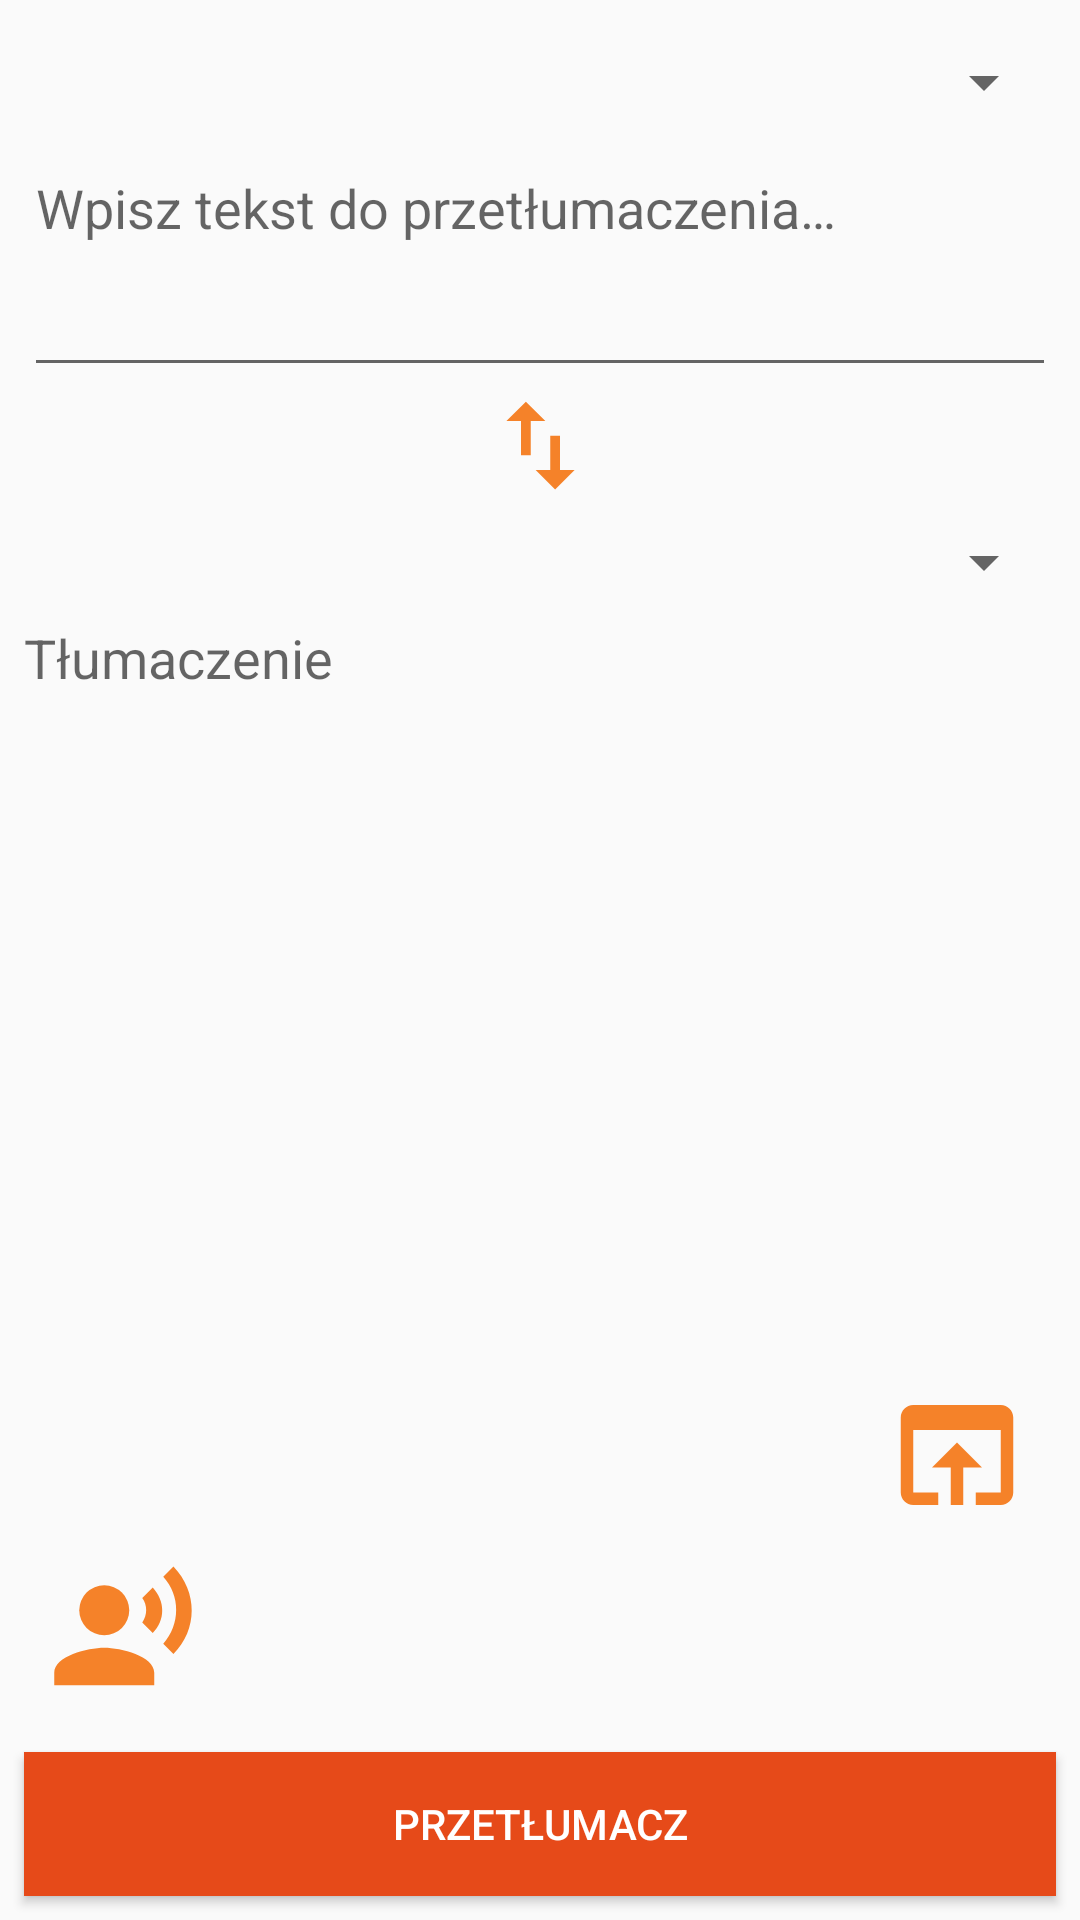

Icon bounding boxes for this 1080px×1920px phone screenshot, format rect(x1, y1, x2, y2):
import export: rect(506, 402, 575, 490)
open in browser: rect(900, 1405, 1014, 1505)
voice: rect(54, 1566, 192, 1686)
